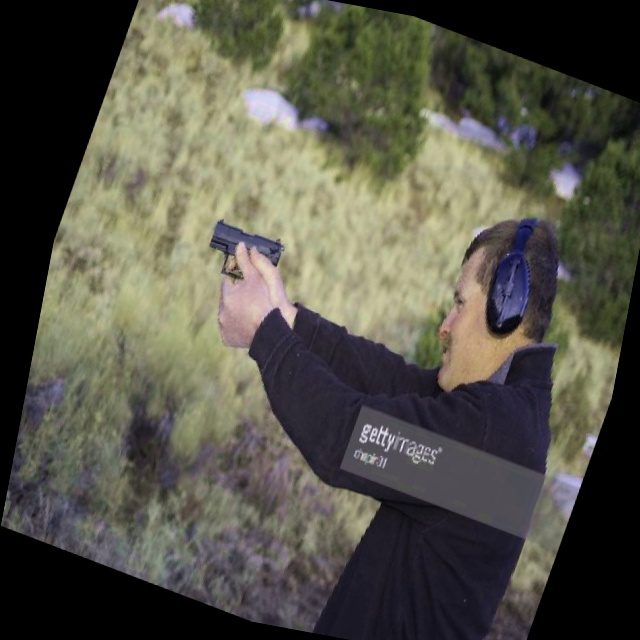gun: (190, 206, 299, 299)
